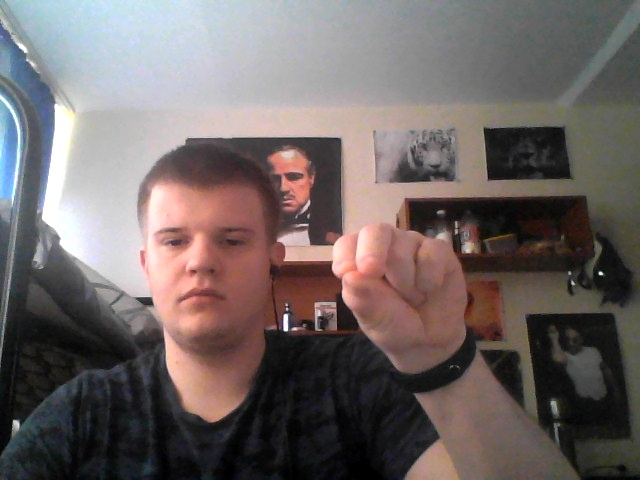no: (328, 219, 473, 349)
